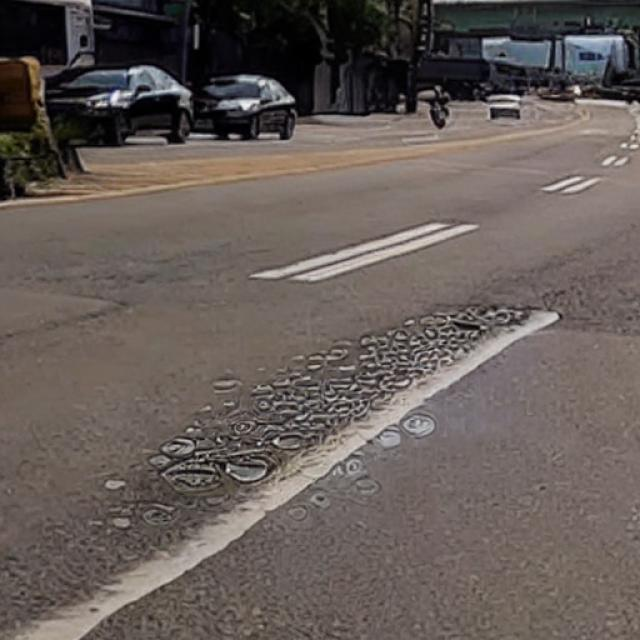puddle: (149, 304, 534, 534)
